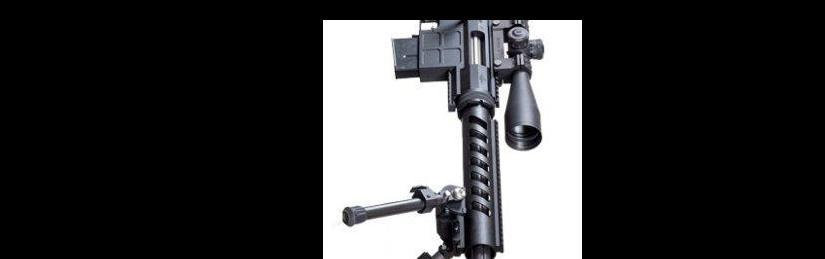larga: (341, 20, 546, 259)
